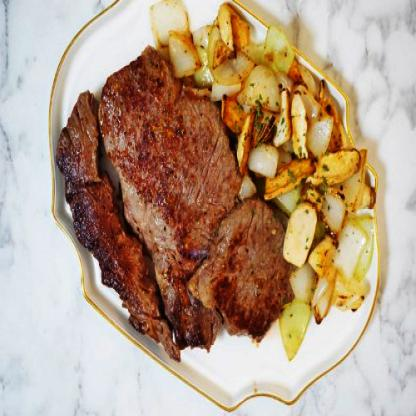Carne: (95, 50, 244, 349), (57, 86, 176, 374), (190, 203, 294, 338)
